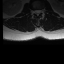CCS_normal: (36, 7, 39, 17)
LFS_normal: (41, 7, 43, 15)
LLS_normal: (39, 7, 41, 16)
RFS_normal: (32, 8, 34, 15)
RLS_normal: (34, 8, 36, 16)
